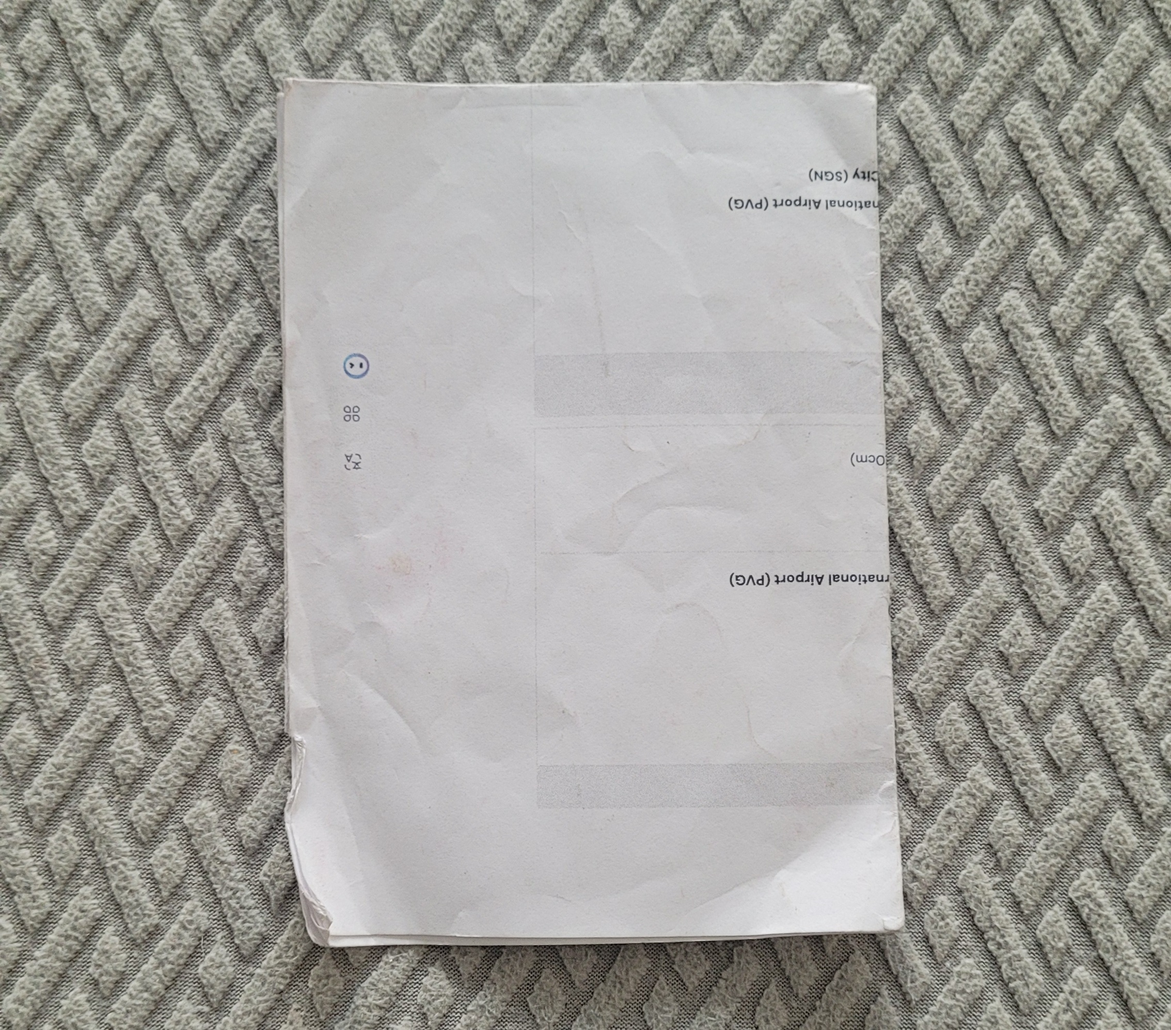paper: (272, 76, 912, 949)
